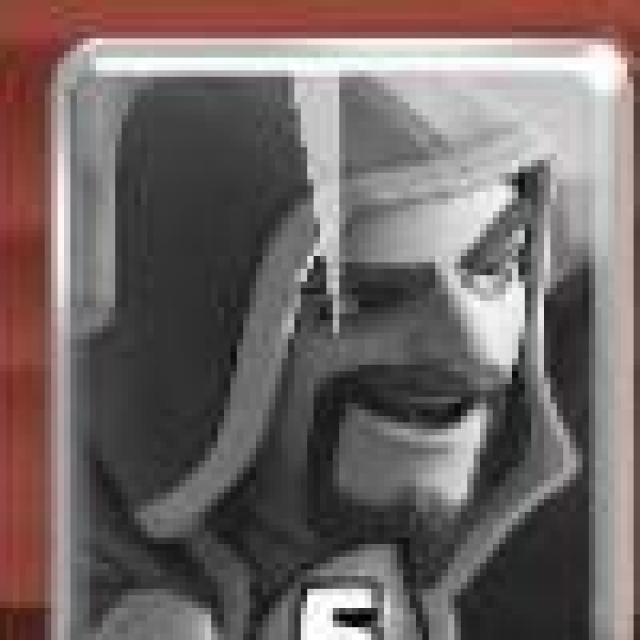Wizard: (52, 38, 634, 640)
